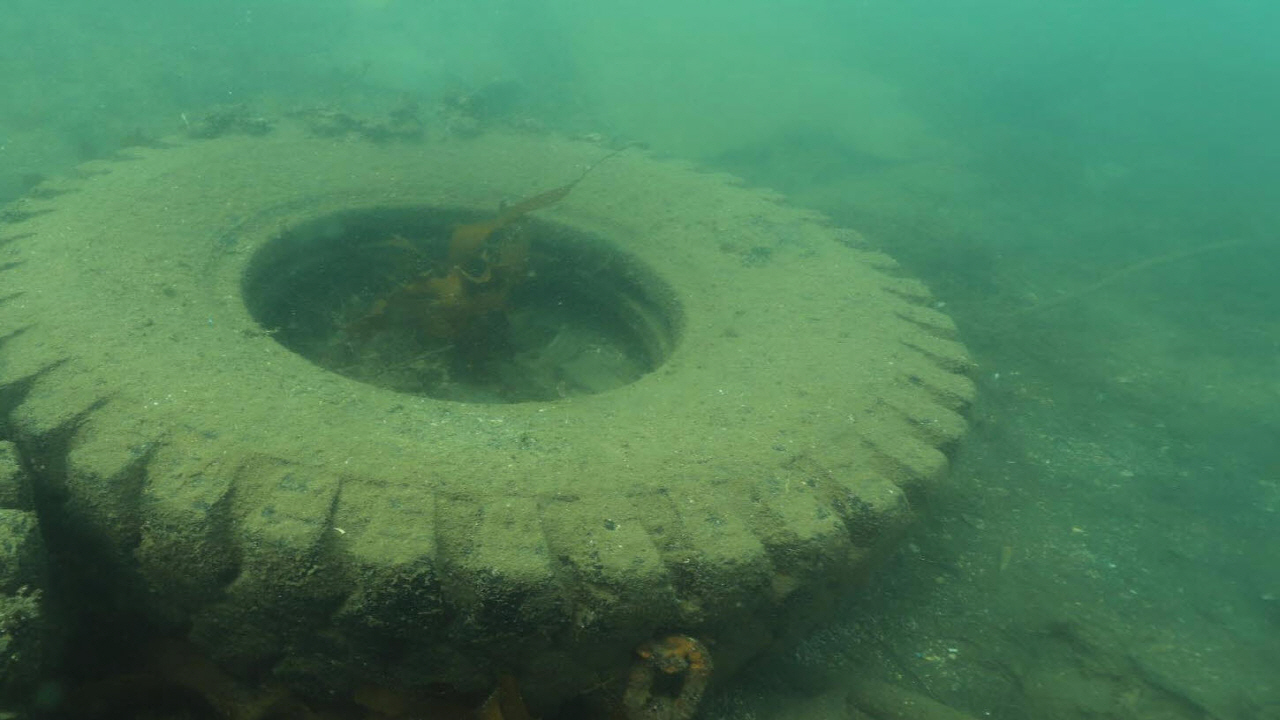tire: (0, 132, 971, 720)
